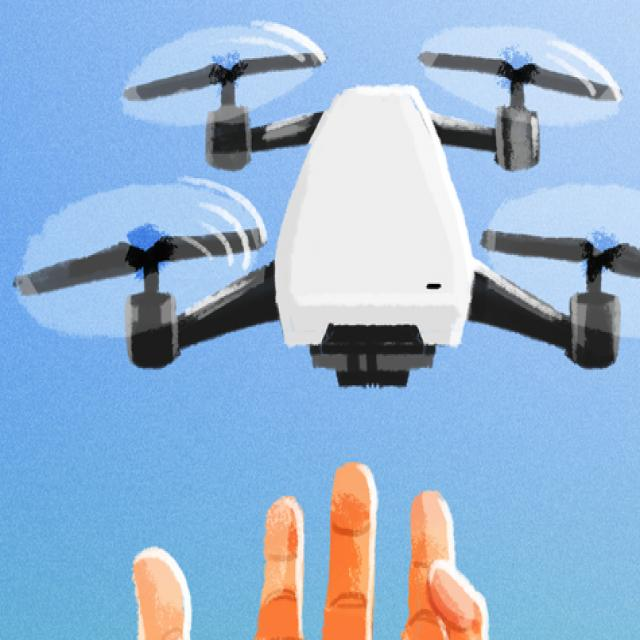drone: (21, 16, 640, 424)
